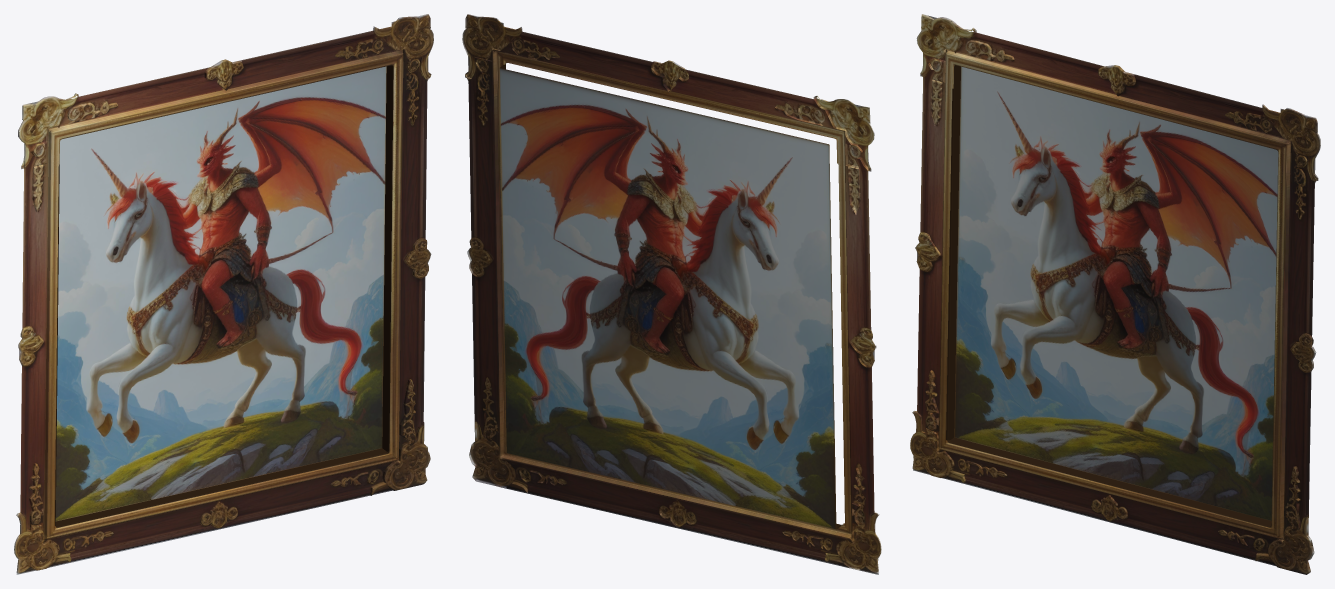
File: Painting Unicorn Rider.fbx
3 views of the same model, side by side, from view 1: azimuth 30°, elevation 25°; view 2: azimuth 150°, elevation 25°; view 3: azimuth 330°, elevation 25° (orthographic). The views are drawn at different scales.
Visible parts, largest first — view 1: Beautiful painting by Jungle Jim; view 2: Beautiful painting by Jungle Jim; view 3: Beautiful painting by Jungle Jim.
Part boxes in pixels (bbox=[...]): Beautiful painting by Jungle Jim: bbox=[14, 14, 433, 574]; Beautiful painting by Jungle Jim: bbox=[462, 14, 881, 574]; Beautiful painting by Jungle Jim: bbox=[910, 14, 1320, 574].
Size of the model in its own units: 253 by 10.09 by 275.
2 materials, 1 textured.
